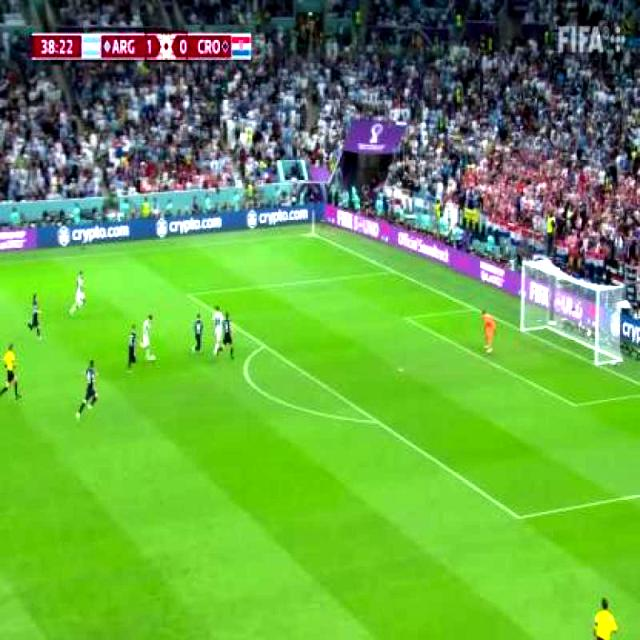bigarea_top_inner: (184, 290, 194, 302)
bigarea_top_outter: (391, 268, 397, 277)
bottom_arc_area_intersection: (512, 508, 526, 528), (371, 414, 383, 428)
corner: (309, 231, 319, 239)
smallarea_bottom_inner: (568, 396, 582, 414)
smallarea_top_inner: (403, 314, 412, 326)
smallarea_top_outter: (469, 304, 477, 316)
top_arc_area_intersection: (260, 340, 270, 352)
